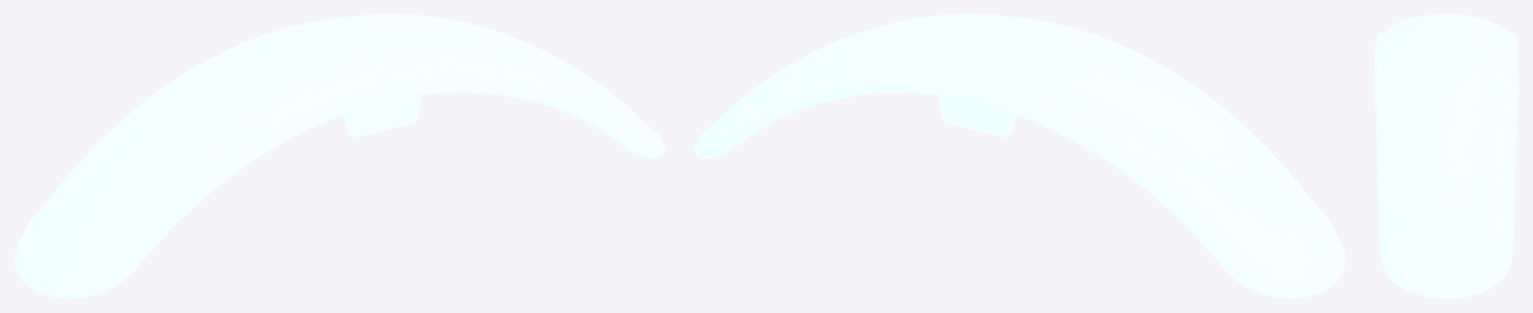
Rendered from fender_front.glb.
3 views of the same model, side by side, from view 1: azimuth 30°, elevation 25°; view 2: azimuth 150°, elevation 25°; view 3: azimuth 270°, elevation 25° (orthographic). The views are drawn at different scales.
Parts seen in each view (by area): view 1: Mesh_0; view 2: Mesh_0; view 3: Mesh_0.
Boxes of the visible parts, bbox=[...] form: Mesh_0: bbox=[14, 14, 665, 298]; Mesh_0: bbox=[694, 14, 1345, 298]; Mesh_0: bbox=[1374, 14, 1518, 298].
Size of the model in its own units: 1.9 by 0.5136 by 0.4918.
Materials: 1 (1 with a texture image).
